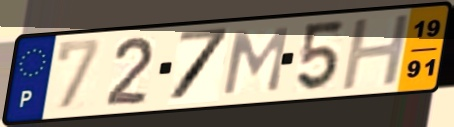2: (104, 34, 157, 109)
5: (296, 17, 349, 95)
7: (171, 26, 233, 106), (53, 36, 105, 115)
H: (338, 11, 414, 94)
M: (219, 25, 292, 97)
